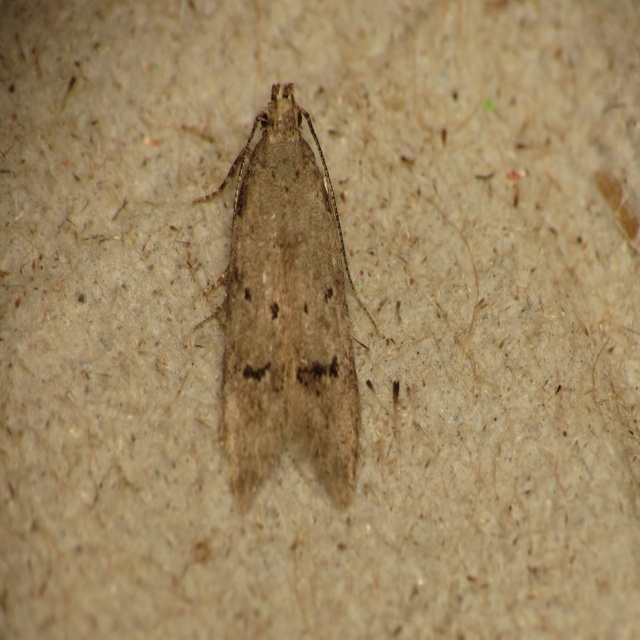Moths and butterflies: (190, 83, 382, 515)
